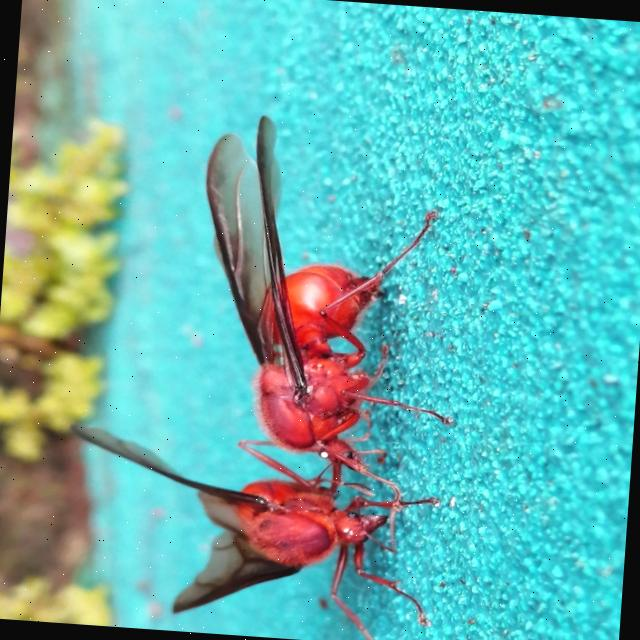Alive-Male-Alate: (180, 110, 473, 556), (54, 409, 444, 640)
